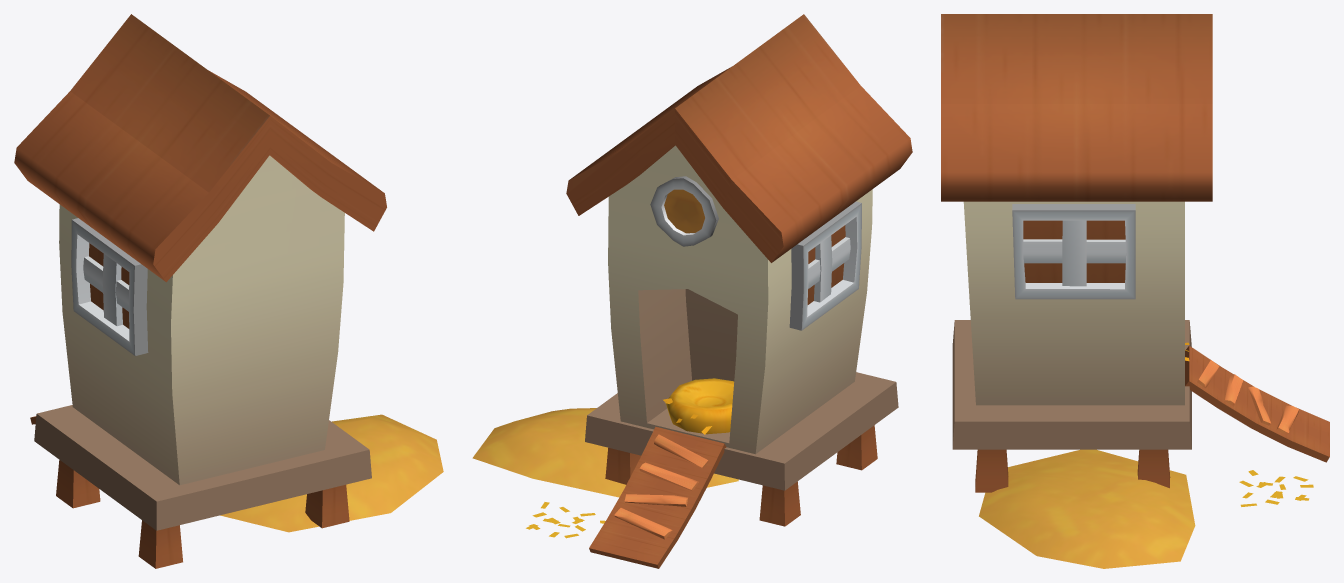
Rendered from Chicken_House.fbx.
3 renders of one model, left to right at view 1: azimuth 30°, elevation 25°; view 2: azimuth 150°, elevation 25°; view 3: azimuth 270°, elevation 25°, orthographic. The views are drawn at different scales.
Parts seen in each view (by area): view 1: Chicken_House, Small_Hill; view 2: Chicken_House, Small_Hill; view 3: Chicken_House, Small_Hill, Chicken_Debris.
Part boxes in pixels (x1,y1,x2,y2): Chicken_House: (14,14,386,568); Small_Hill: (220,414,443,532); Chicken_House: (566,14,912,568); Small_Hill: (472,408,738,497); Chicken_House: (941,14,1329,492); Small_Hill: (979,449,1195,568); Chicken_Debris: (1239,470,1313,506).
Bounding box in the file's own units: 303 × 352 × 285.
